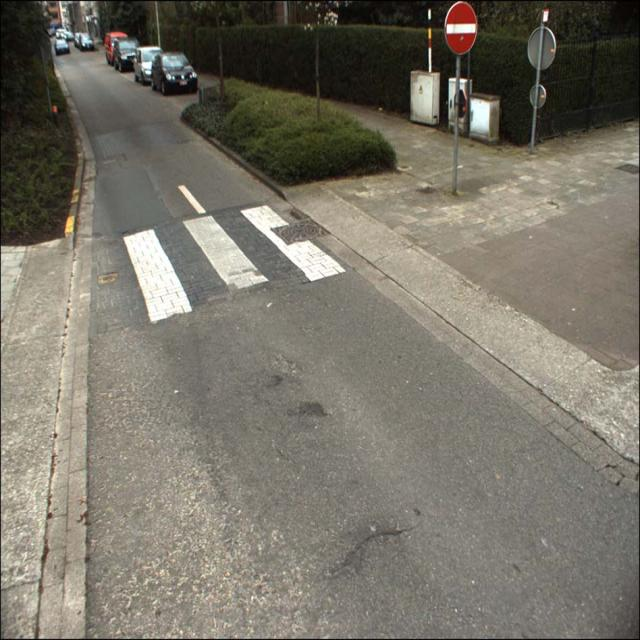girisyok: (445, 1, 478, 54)
